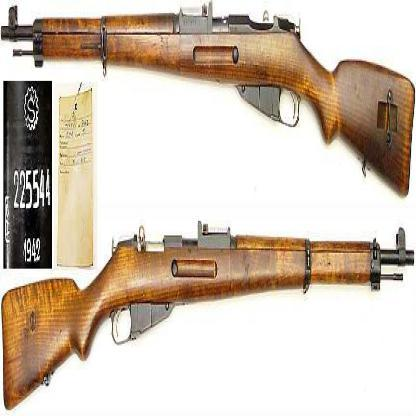Heavy Gun: (2, 5, 412, 196), (20, 230, 416, 361)
